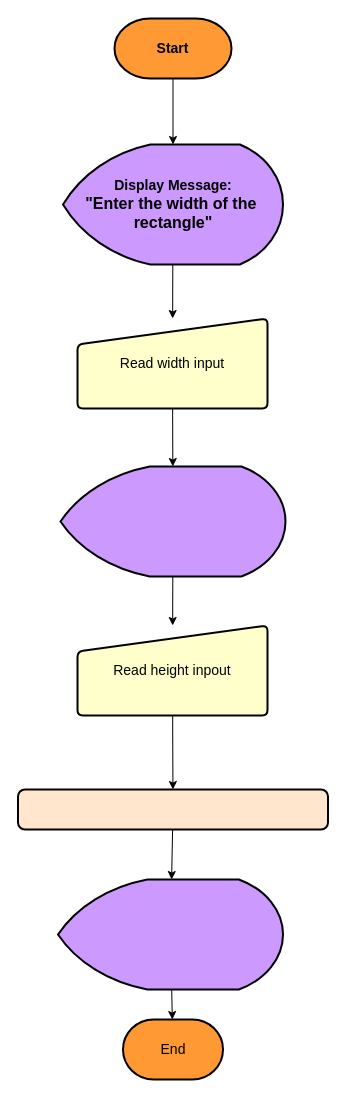
Image size: 346x1097. Some labels were removed from this diagram. The shapes that lost their labels are listed below. From the top down, each one's centre as x and y in pixels, then its label:
point (172, 521): Disp;ay message: "Enter the height of the rectangle"
point (172, 809): Calculate area: area = width * height
point (170, 934): Disp;ay message: "The area of the rectangle is",area
